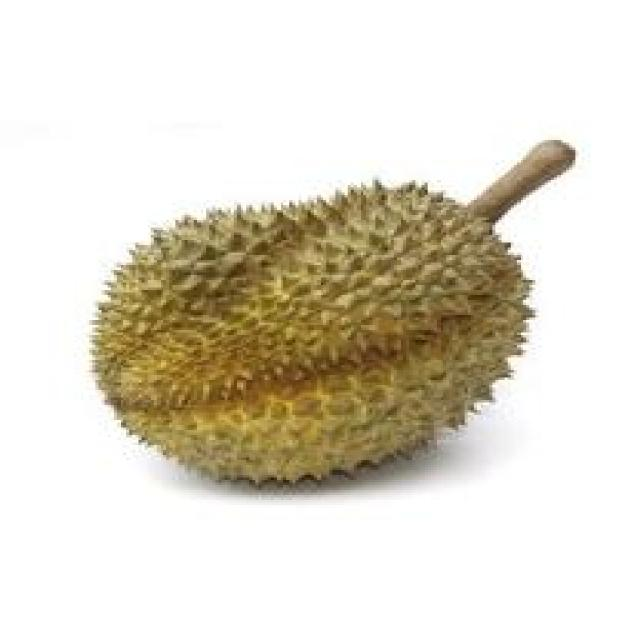fruit: (58, 147, 437, 535)
